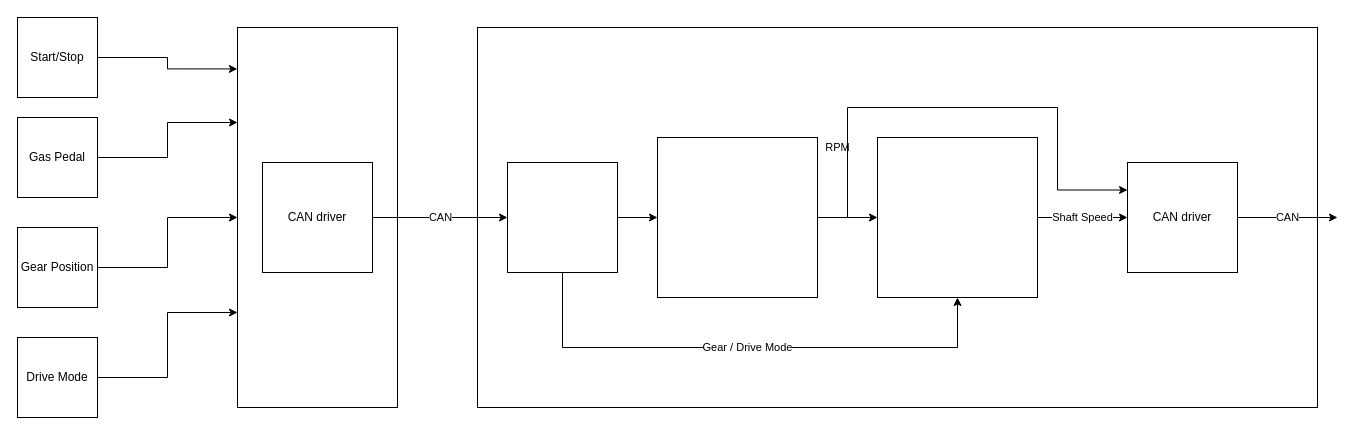
Image size: 1363x435. Some labels were removed from this diagram. The shapes that lost their labels are listed below. From the top down, each one's centre as x and y in pixels, then its label:
At pixel 562 217: "CAN reader".
At pixel 737 217: "Engine".
At pixel 957 217: "Gearbox".
